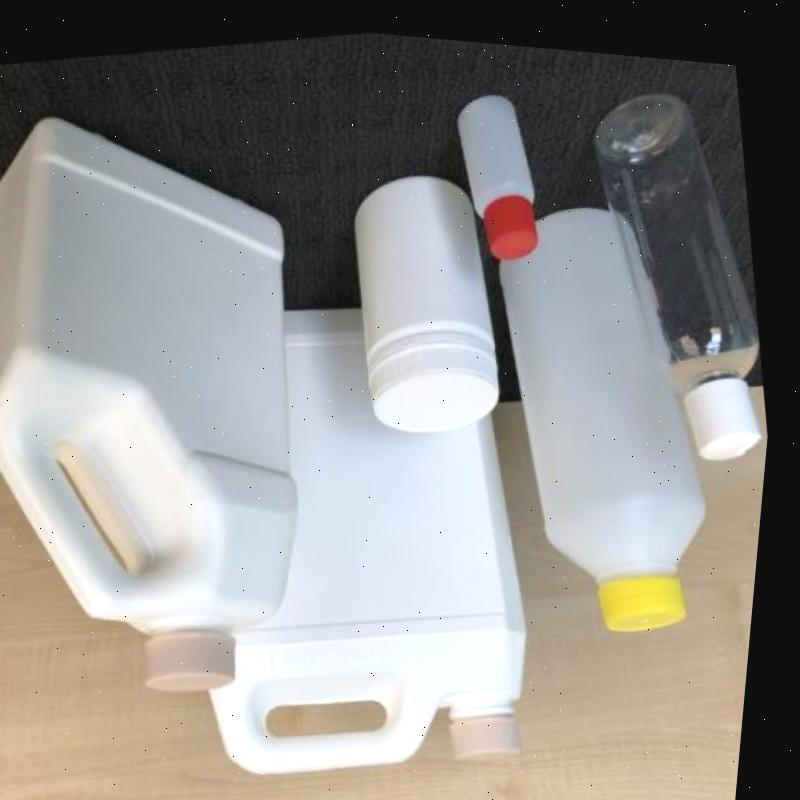botella: (559, 55, 799, 471)
